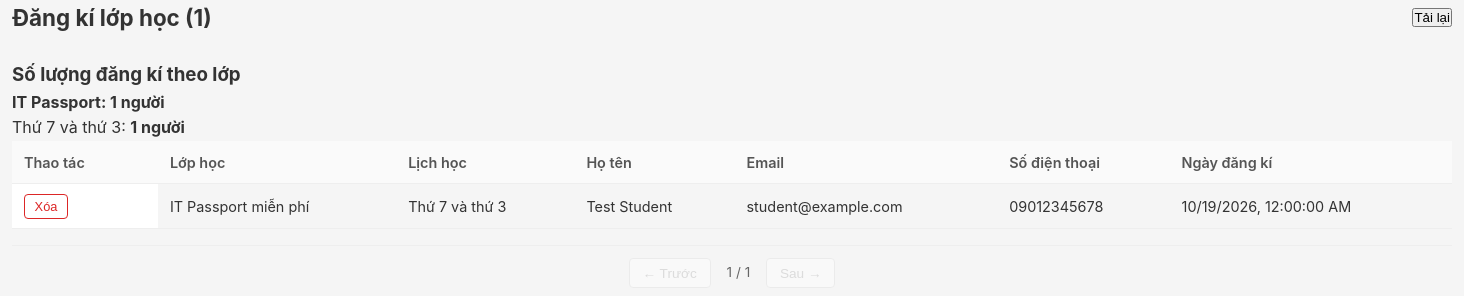
it: deletes after confirmation and refreshes both list and counts
What coordinates should you click on to do the following:
click the button "Xóa"
I would click on:
 (46, 206)
Its box is [24,194,68,219].
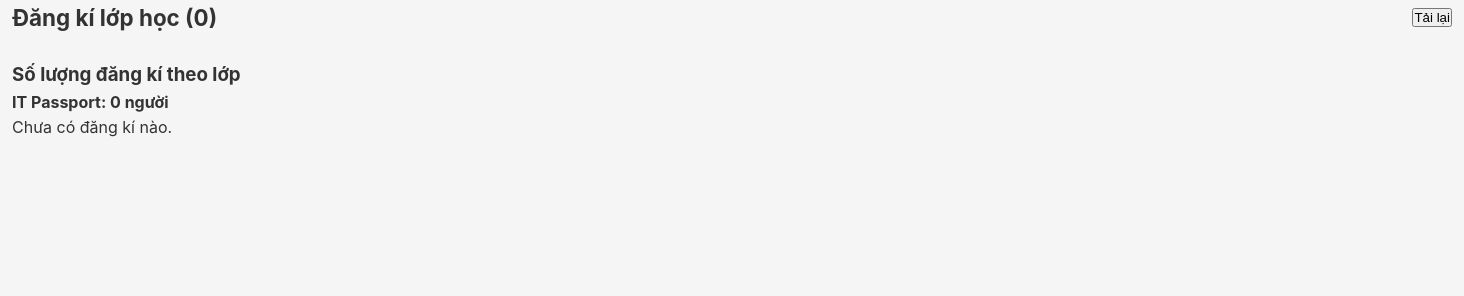
expect the text "Chưa có đăng kí nào." is shown: met, box [12,117,172,137]
expect the text "IT Passport: 0 người" is shown: met, box [12,92,168,112]
